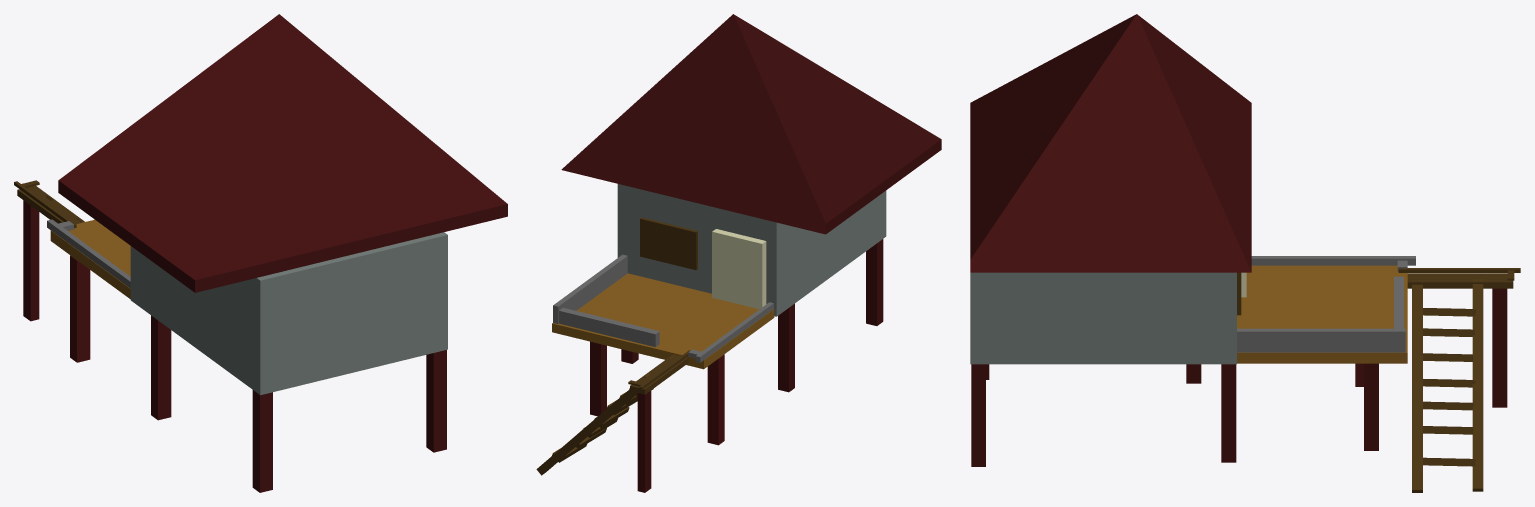
The model's file is rumahhmegggg.fbx.
3 renders of one model, left to right at view 1: azimuth 30°, elevation 25°; view 2: azimuth 150°, elevation 25°; view 3: azimuth 270°, elevation 25°, orthographic. The views are drawn at different scales.
Visible parts, largest first — view 1: Cube.012, Cube.001, Cube.011, Cube.007, Cube.004, Cube.003, Cube.002, Cube.024, Cube.021, Cube.013; view 2: Cube.012, Cube.001, Cube.011, Cube.009, Cube.015, Cube.032, Cube.020, Cube.004, Cube.024, Cube.003, Cube.002, Cube.014 (+3 smaller); view 3: Cube.012, Cube.001, Cube.011, Cube.020, Cube.016, Cube.017, Cube.024, Cube.021, Cube.005, Cube.013, Cube.007, Cube.014 (+1 smaller).
Part boxes in pixels (box(x1,y1,x2,y2)): Cube.012: box(58, 14, 507, 292); Cube.001: box(130, 232, 447, 395); Cube.011: box(50, 219, 130, 298); Cube.007: box(426, 350, 446, 452); Cube.004: box(70, 255, 90, 362); Cube.003: box(252, 390, 272, 492); Cube.002: box(151, 315, 171, 420); Cube.024: box(23, 200, 39, 321); Cube.021: box(47, 219, 130, 288); Cube.013: box(17, 185, 84, 223); Cube.012: box(561, 14, 941, 234); Cube.001: box(617, 184, 886, 316); Cube.011: box(552, 273, 774, 369); Cube.009: box(712, 229, 766, 309); Cube.015: box(640, 217, 698, 270); Cube.032: box(559, 307, 659, 346); Cube.020: box(553, 254, 627, 323); Cube.004: box(707, 354, 724, 445); Cube.024: box(637, 390, 651, 492); Cube.003: box(866, 239, 883, 325); Cube.002: box(778, 303, 794, 392); Cube.014: box(590, 341, 606, 416); Cube.012: box(970, 14, 1251, 272); Cube.001: box(970, 272, 1236, 364); Cube.011: box(1237, 265, 1407, 363); Cube.020: box(1237, 328, 1405, 352); Cube.016: box(1472, 279, 1483, 491); Cube.017: box(1412, 280, 1422, 492); Cube.024: box(1492, 288, 1507, 407); Cube.021: box(1251, 256, 1415, 265); Cube.005: box(1221, 364, 1236, 462); Cube.013: box(1407, 273, 1513, 288); Cube.007: box(971, 364, 985, 466); Cube.014: box(1364, 363, 1378, 450).
Size of what is drawn, in the model's own units: 1007 by 1345 by 1492.
